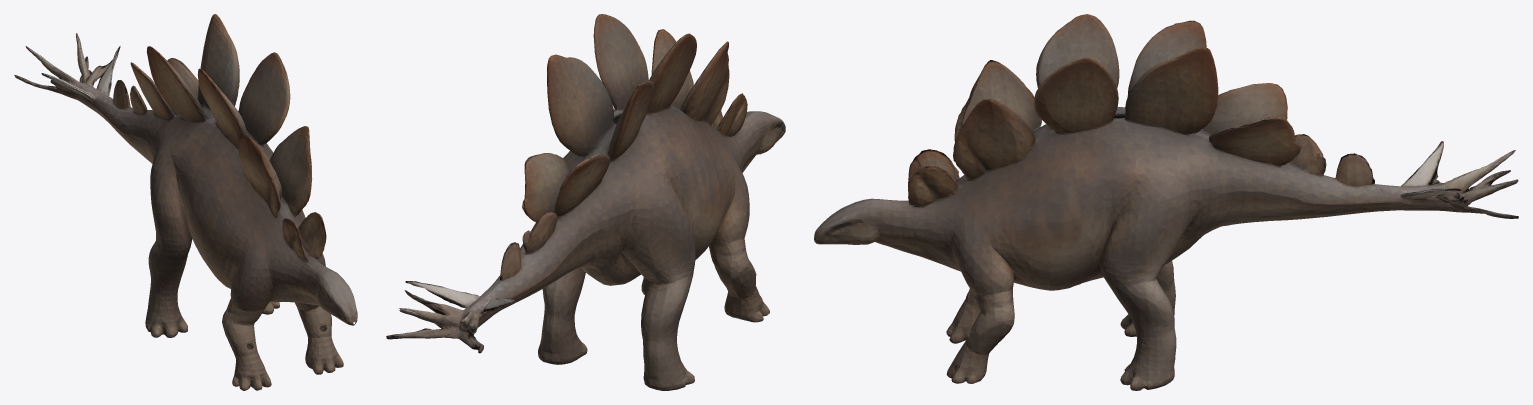
The picture shows the model from 3 angles, left to right: view 1: azimuth 30°, elevation 25°; view 2: azimuth 150°, elevation 25°; view 3: azimuth 270°, elevation 25°; orthographic projection. The views are drawn at different scales.
Visible parts, largest first — view 1: world; view 2: world; view 3: world.
Part boxes in pixels (x1=…): world: x1=14, y1=14, x2=357, y2=390; world: x1=386, y1=14, x2=785, y2=390; world: x1=814, y1=14, x2=1518, y2=390.
Size of the model in its own units: 0.2421 by 0.5119 by 0.9999.
1 material, 1 textured.
